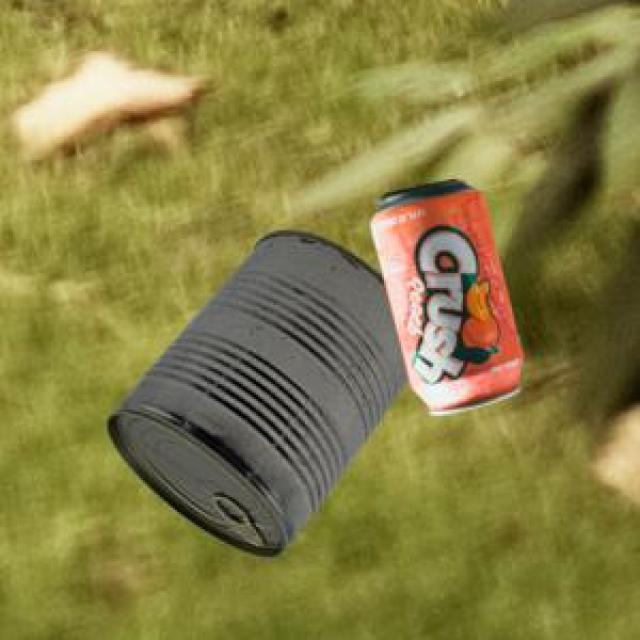logam: (103, 227, 406, 554), (368, 176, 519, 413)
